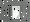person: (13, 7, 21, 20), (7, 8, 12, 18)
